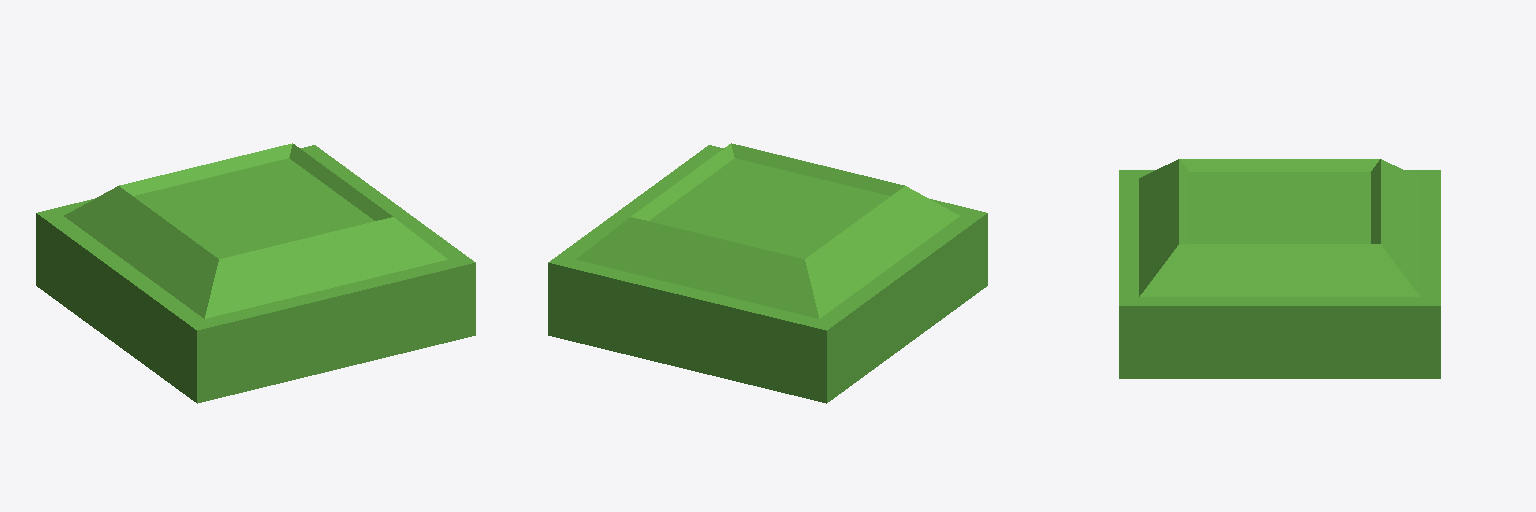
File: JadeChocolate.obj
3 views of the same model, side by side, from view 1: azimuth 30°, elevation 25°; view 2: azimuth 150°, elevation 25°; view 3: azimuth 270°, elevation 25° (orthographic).
Visible parts, largest first — view 1: Union1; view 2: Union1; view 3: Union1.
Boxes of the visible parts, x1,y1,x2,y2 form: Union1: [36, 143, 475, 403]; Union1: [548, 143, 987, 403]; Union1: [1119, 159, 1440, 378].
Bounding box in the file's own units: 4 × 1.5 × 4.